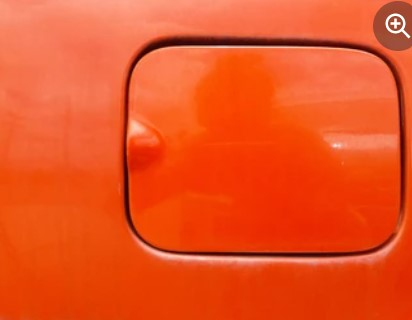closed: (116, 27, 410, 275)
